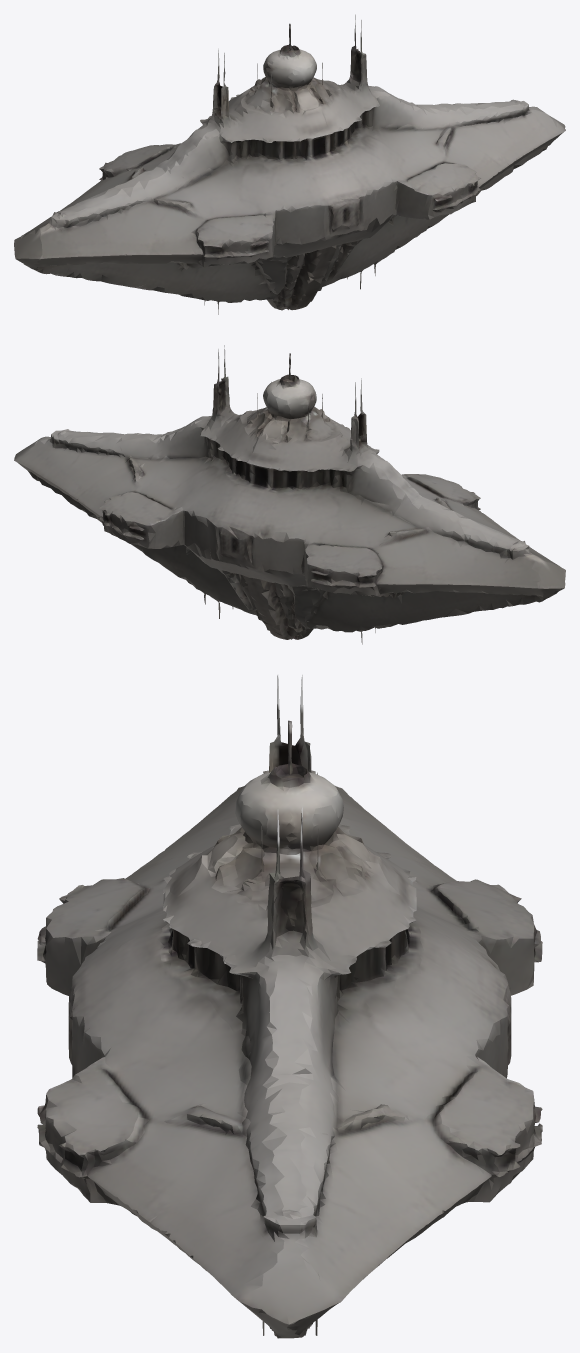
File: titan_hull.glb
The picture shows the model from 3 angles, top to bottom: view 1: azimuth 30°, elevation 25°; view 2: azimuth 150°, elevation 25°; view 3: azimuth 270°, elevation 25°; orthographic projection. The views are drawn at different scales.
Visible parts, largest first — view 1: titan_hull; view 2: titan_hull; view 3: titan_hull.
Boxes of the visible parts, x1,y1,x2,y2 form: titan_hull: (14, 14, 565, 314); titan_hull: (14, 345, 565, 644); titan_hull: (37, 674, 542, 1338).
Size of the model in its own units: 1.9 by 0.9409 by 0.7567.
1 material, 1 textured.
